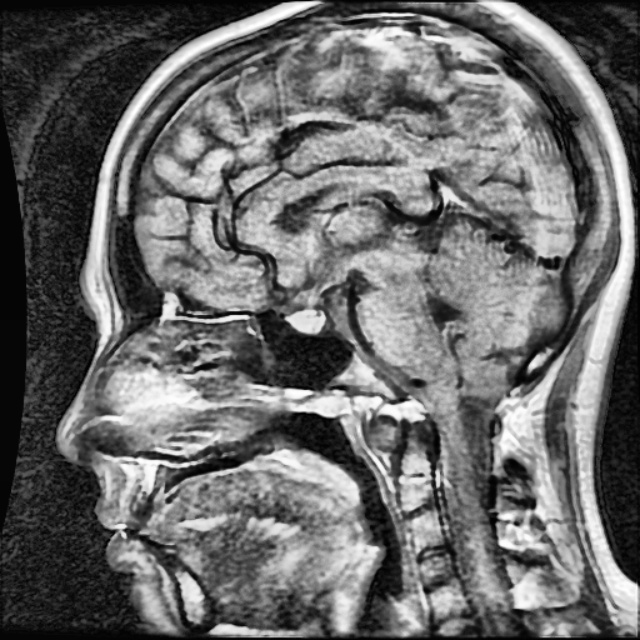Pituitary: (282, 309, 325, 334)
